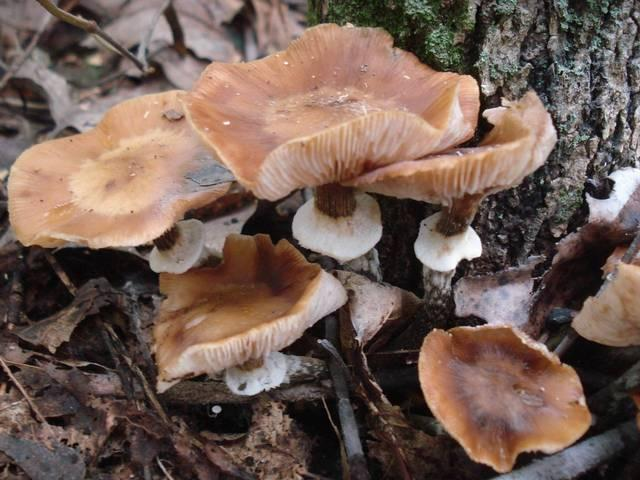Edible Mushroom: (183, 21, 481, 261), (6, 88, 236, 251), (150, 231, 348, 396), (416, 321, 592, 473)
